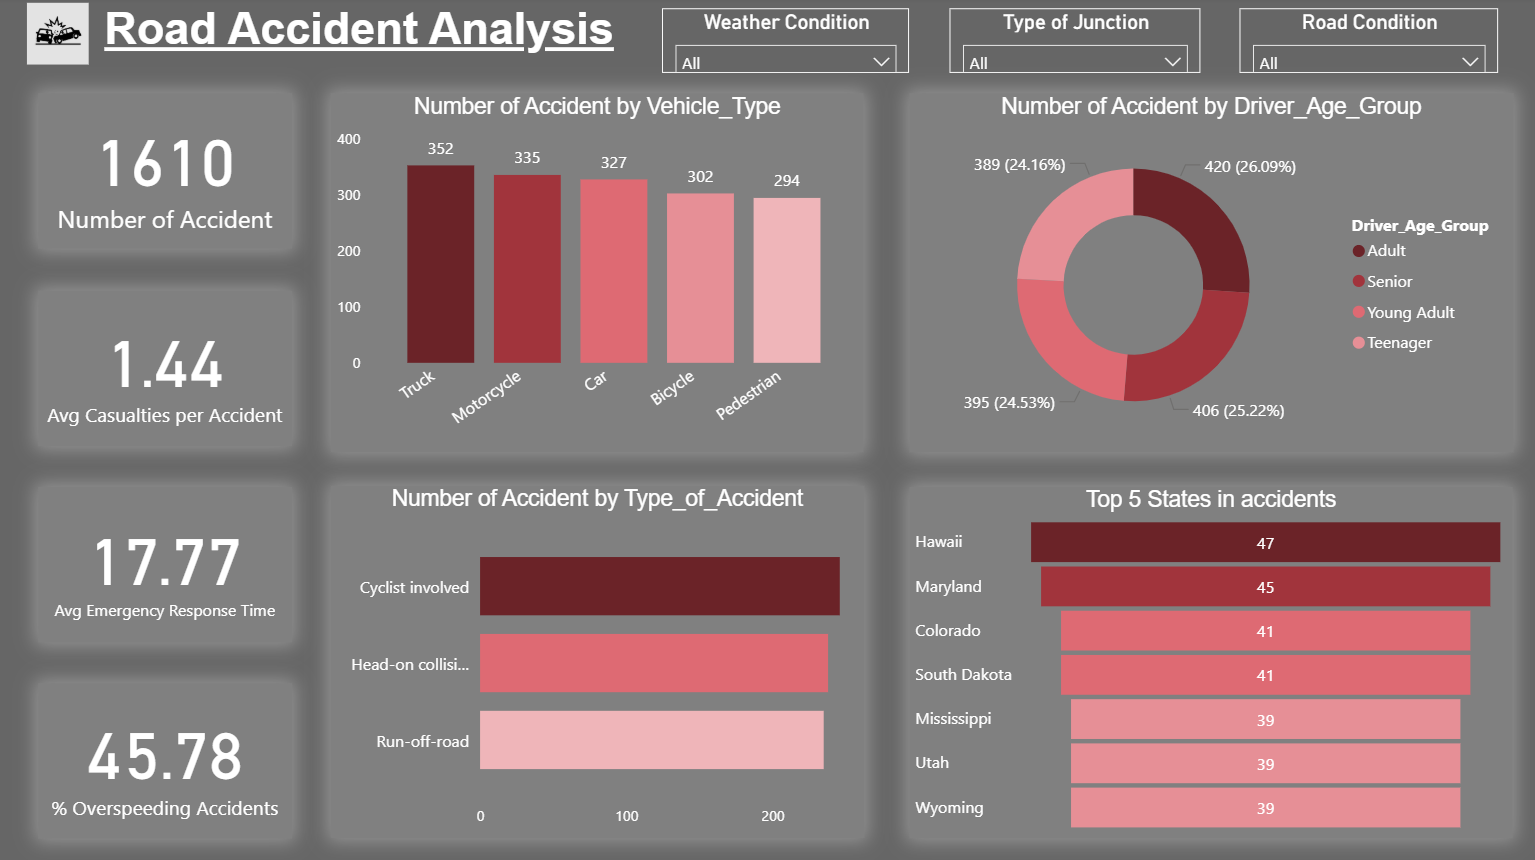

The page's visual inventory and layout, read from the dashboard file:
{"tool":"powerbi","page":{"name":"Accidents Analysis ","canvas":[1280,720],"ordinal":1},"visuals":[{"type":"textbox","box":[83.9,0,442.5,61.1],"z":0},{"type":"columnChart","fields":{"Category":["cleaned_road_accident_data.Vehicle_Type"],"Y":["Table.Number of Accident"]},"box":[276.7,80.2,441.9,297.7],"z":1000},{"type":"card","fields":{"Values":["Table.Number of Accident"]},"box":[33.7,80.2,210.5,129.1],"z":2000},{"type":"card","fields":{"Values":["Table.Avg Casualties per Accident"]},"box":[33.7,243,210.5,129.1],"z":3000},{"type":"card","fields":{"Values":["Table.Avg Emergency Response Time"]},"box":[33.7,405.8,210.5,129.1],"z":4000},{"type":"card","fields":{"Values":["Table.% Overspeeding Accidents"]},"box":[33.7,568.6,210.5,129.1],"z":5000},{"type":"funnel","title":"Top 5 States in accidents ","fields":{"Category":["cleaned_road_accident_data.State"],"Y":["Table.Number of Accident"]},"box":[756.1,406.1,500,291.1],"z":6000},{"type":"barChart","fields":{"Category":["cleaned_road_accident_data.Type_of_Accident"],"Y":["Table.Number of Accident"]},"box":[276.6,405.5,442,292.3],"z":7000},{"type":"slicer","title":"Road Condition","fields":{"Values":["cleaned_road_accident_data.Road_Conditions"]},"box":[1030.1,9.3,214.5,53.9],"z":8000},{"type":"slicer","title":"Type of Junction","fields":{"Values":["cleaned_road_accident_data.Type_of_Junction"]},"box":[789.1,9.3,208.3,53.9],"z":9000},{"type":"slicer","title":"Weather Condition","fields":{"Values":["cleaned_road_accident_data.Weather_Conditions"]},"box":[551.3,9.3,205.2,53.9],"z":10000},{"type":"donutChart","fields":{"Category":["cleaned_road_accident_data.Driver_Age_Group"],"Y":["Table.Number of Accident"]},"box":[756.5,79.8,500.5,297.4],"z":11000},{"type":"image","box":[17.6,0,66.3,61.1],"z":12000}]}

Visuals, with their boxes in screenshot pixels (x1, y1, x2, y2), scaled from the page's 1280x720 canvas onto the 1535x860 screenshot:
textbox: <bbox>101, 0, 631, 73</bbox>
columnChart - cleaned_road_accident_data.Vehicle_Type x Table.Number of Accident: <bbox>332, 96, 862, 451</bbox>
card - Table.Number of Accident: <bbox>40, 96, 293, 250</bbox>
card - Table.Avg Casualties per Accident: <bbox>40, 290, 293, 444</bbox>
card - Table.Avg Emergency Response Time: <bbox>40, 485, 293, 639</bbox>
card - Table.% Overspeeding Accidents: <bbox>40, 679, 293, 833</bbox>
"Top 5 States in accidents " funnel: <bbox>907, 485, 1506, 833</bbox>
barChart - cleaned_road_accident_data.Type_of_Accident x Table.Number of Accident: <bbox>332, 484, 862, 833</bbox>
"Road Condition" slicer: <bbox>1235, 11, 1493, 75</bbox>
"Type of Junction" slicer: <bbox>946, 11, 1196, 75</bbox>
"Weather Condition" slicer: <bbox>661, 11, 907, 75</bbox>
donutChart - cleaned_road_accident_data.Driver_Age_Group x Table.Number of Accident: <bbox>907, 95, 1507, 451</bbox>
image: <bbox>21, 0, 101, 73</bbox>
